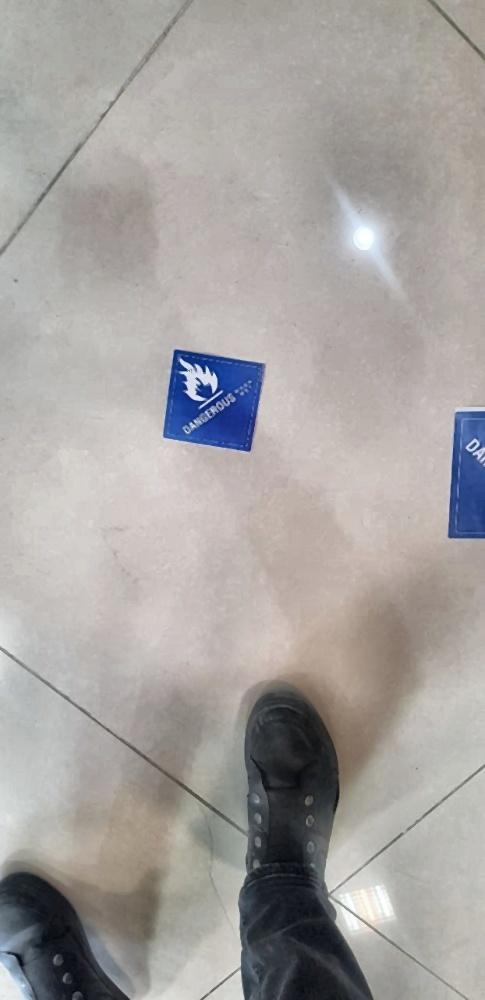dangerous-when-wet: (160, 347, 266, 455), (452, 405, 485, 545)
